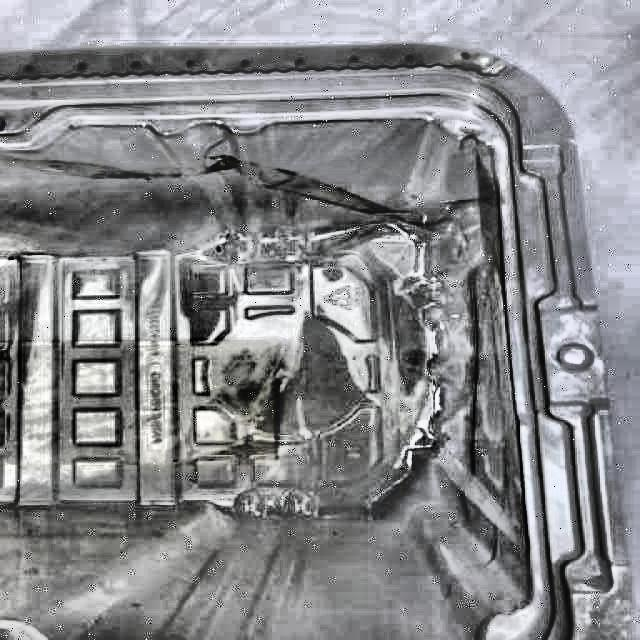plastic: (1, 46, 611, 640)
